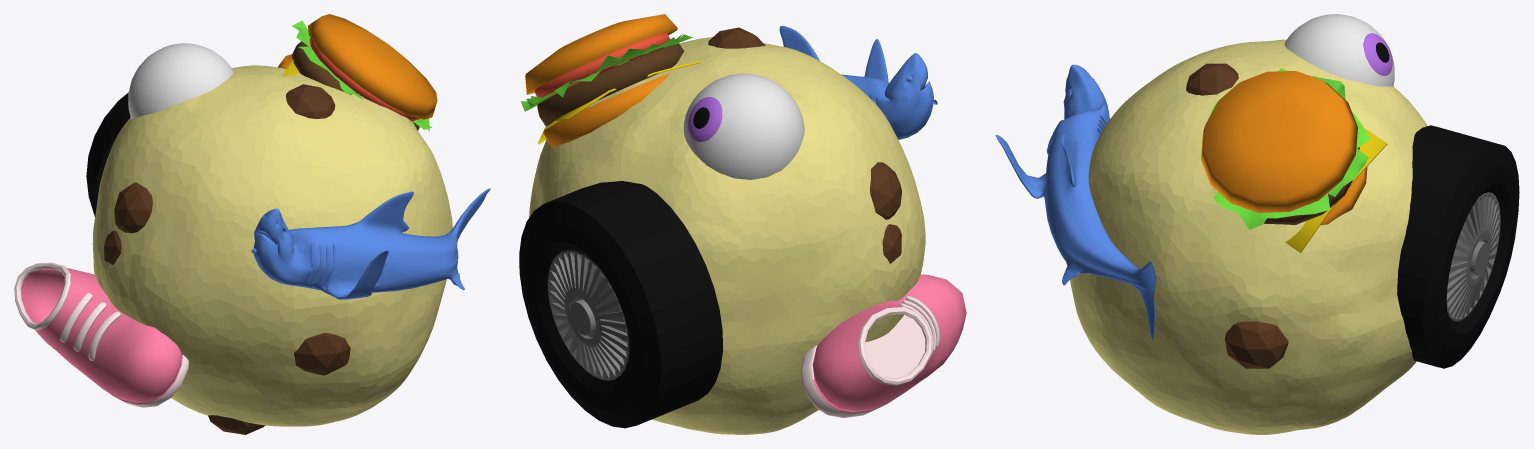
File: Items_OnDough.FBX
3 renders of one model, left to right at view 1: azimuth 30°, elevation 25°; view 2: azimuth 150°, elevation 25°; view 3: azimuth 270°, elevation 25°, orthographic. The views are drawn at different scales.
Parts seen in each view (by area): view 1: Dough_1A, OnCake_Shark, OnCake_Shoe, OnCake_Hamburger, Dough_1B, OnCake_Eye, OnCake_Tire; view 2: Dough_1A, OnCake_Tire, OnCake_Shoe, OnCake_Hamburger, OnCake_Eye, OnCake_Shark, Dough_1B; view 3: Dough_1A, OnCake_Tire, OnCake_Hamburger, OnCake_Shark, OnCake_Eye, Dough_1B.
Part boxes in pixels (x1,y1,x2,y2): Dough_1A: (92,65,452,426); OnCake_Shark: (251,188,490,299); OnCake_Shoe: (14,262,188,407); OnCake_Hamburger: (278,14,437,131); Dough_1B: (104,84,350,434); OnCake_Eye: (128,43,233,119); OnCake_Tire: (86,92,130,216); Dough_1A: (529,37,925,434); OnCake_Tire: (519,181,722,428); OnCake_Shoe: (801,274,966,417); OnCake_Hamburger: (520,14,701,148); OnCake_Eye: (683,73,804,179); OnCake_Shark: (779,25,937,139); Dough_1B: (708,27,901,263); Dough_1A: (1070,39,1427,434); OnCake_Tire: (1397,125,1519,368); OnCake_Hamburger: (1201,68,1387,252); OnCake_Shark: (995,64,1156,340); OnCake_Eye: (1284,14,1394,86); Dough_1B: (1186,63,1288,368).
Bounding box in the file's own units: 322 × 284 × 366.
